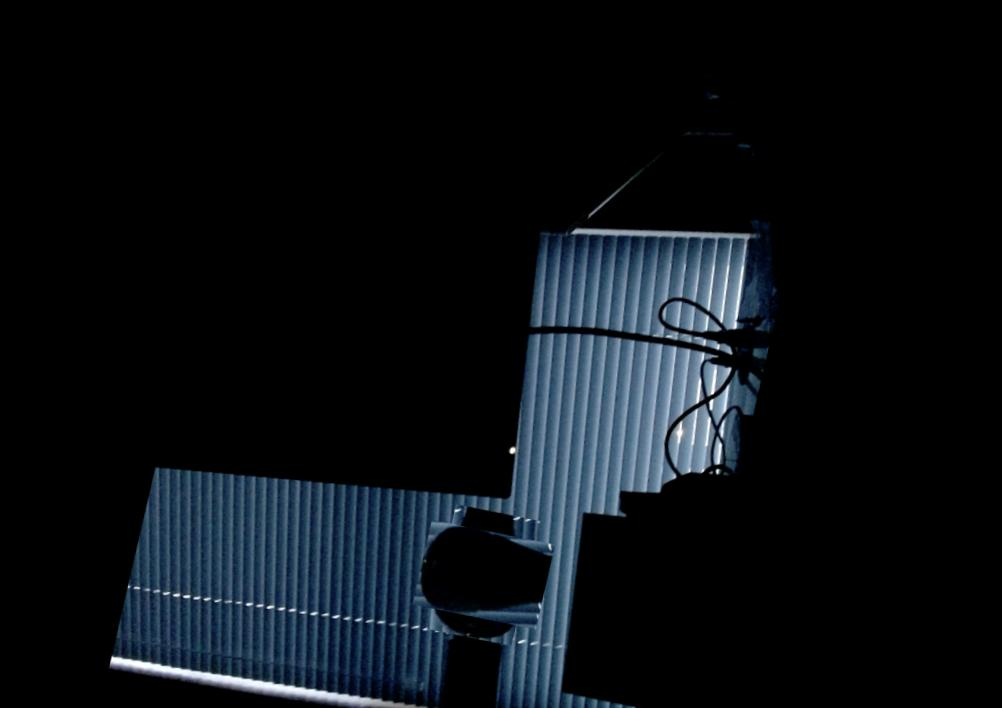Fan: (429, 505, 557, 632)
